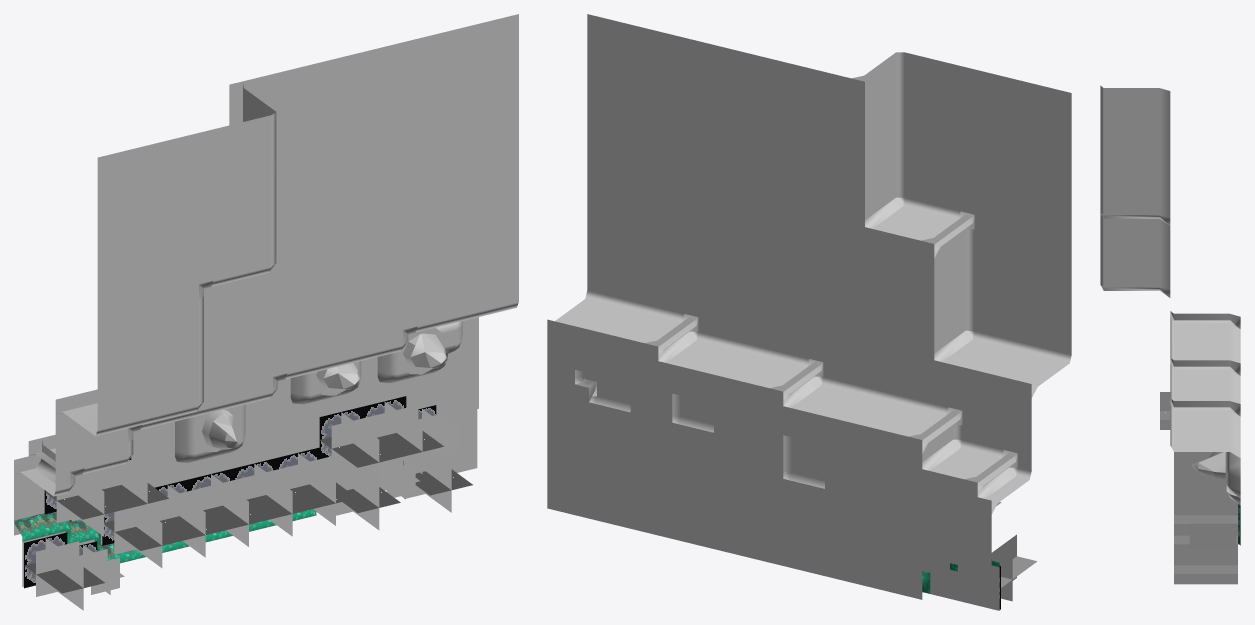
Rendered from Asteria_20_17.obj.
3 views of the same model, side by side, from view 1: azimuth 30°, elevation 25°; view 2: azimuth 150°, elevation 25°; view 3: azimuth 270°, elevation 25° (orthographic). The views are drawn at different scales.
Parts seen in each view (by area): view 1: map; view 2: map; view 3: map.
Boxes of the visible parts, x1,y1,x2,y2 form: map: (14,14,518,610); map: (547,14,1071,610); map: (1100,85,1240,584).
Size of the model in its own units: 32 by 32 by 10.
